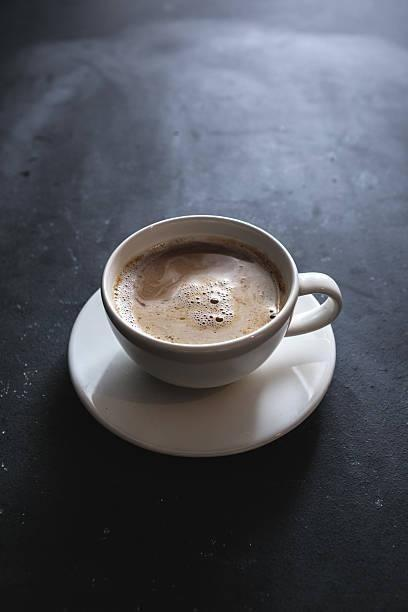cup-handle: (99, 213, 343, 391)
